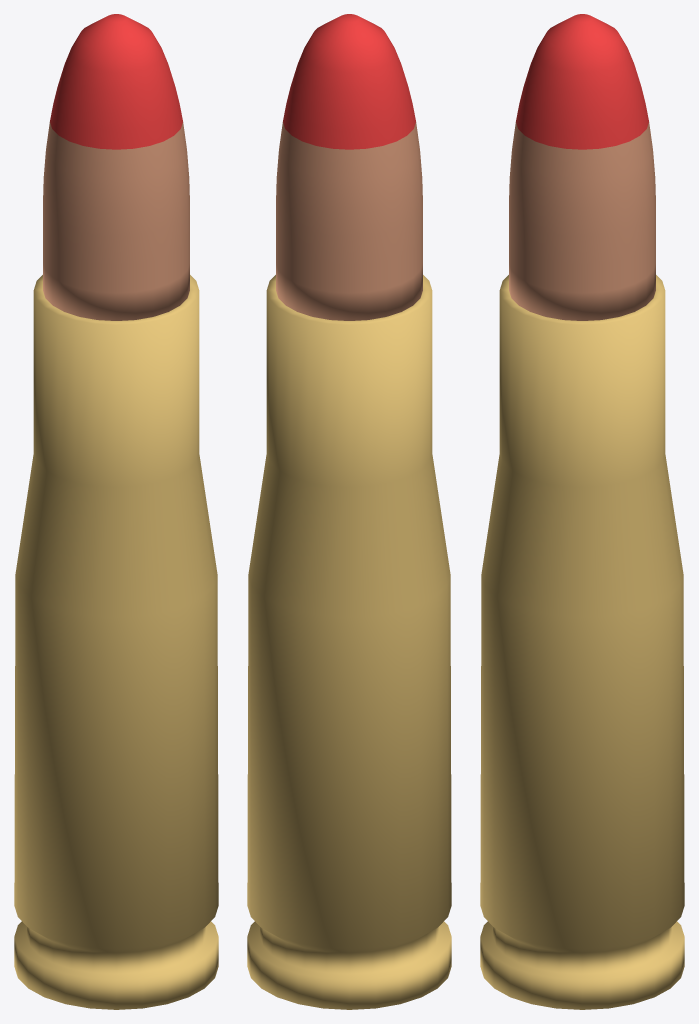
3 renders of one model, left to right at view 1: azimuth 30°, elevation 25°; view 2: azimuth 150°, elevation 25°; view 3: azimuth 270°, elevation 25°, orthographic.
Visible parts, largest first — view 1: vaina, bala_cuerpo, punta; view 2: vaina, bala_cuerpo, punta; view 3: vaina, bala_cuerpo, punta.
Part boxes in pixels (x1=…): vaina: x1=14, y1=275, x2=218, y2=1009; bala_cuerpo: x1=43, y1=122, x2=189, y2=320; punta: x1=50, y1=14, x2=182, y2=149; vaina: x1=247, y1=275, x2=451, y2=1009; bala_cuerpo: x1=276, y1=122, x2=422, y2=320; punta: x1=283, y1=14, x2=415, y2=149; vaina: x1=480, y1=275, x2=684, y2=1009; bala_cuerpo: x1=509, y1=122, x2=655, y2=320; punta: x1=516, y1=14, x2=648, y2=149.
Size of the model in its own units: 0.0079 by 0.0405 by 0.0079.
